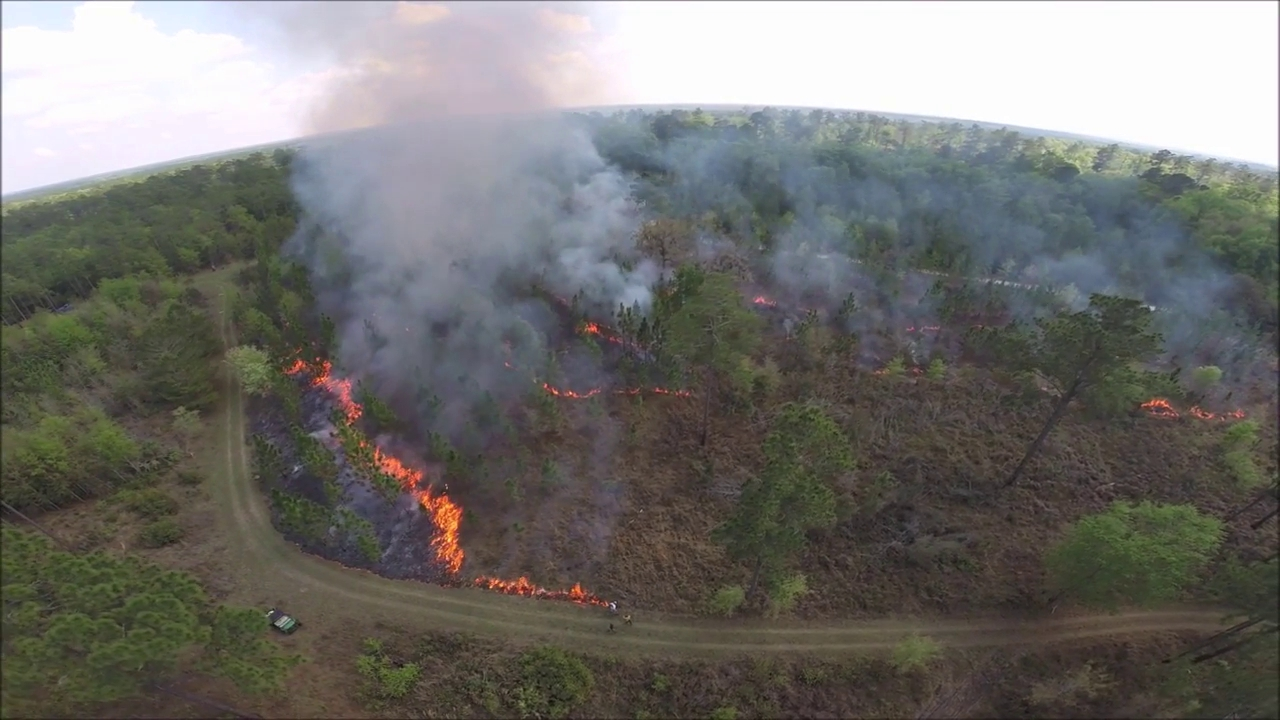forest_fire: (361, 438, 464, 576), (286, 358, 361, 421), (470, 576, 607, 604), (1138, 397, 1246, 420), (543, 383, 691, 399), (578, 322, 626, 345), (872, 366, 892, 376), (909, 368, 923, 375)
